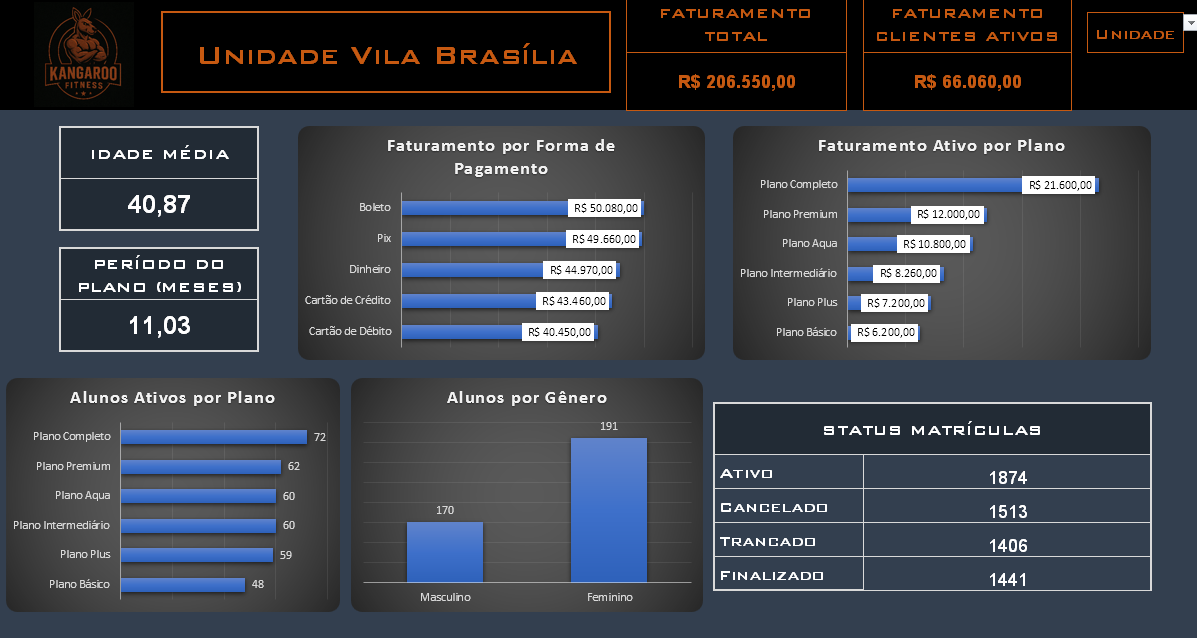

This screenshot's page, from the dashboard's own definition file:
{"tool":"powerbi","page":{"name":"Unidade","canvas":[1280,720],"ordinal":4},"visuals":[{"type":"card","title":"Faturamento Mensal Ativo","fields":{"Values":["0_Medidas.Fat_Mat_Ativas"]},"box":[567.6,28.5,201,125.6],"z":0},{"type":"clusteredColumnChart","title":"Alunos por Gênero","fields":{"Category":["dim_Clientes.Genero"],"Y":["0_Medidas.Medida"]},"box":[861.8,446.7,400,260],"z":1000},{"type":"clusteredColumnChart","title":"Faixa Etária dos Alunos","fields":{"Y":["0_Medidas.N_Alunos_Unidade"],"Category":["dim_Clientes.Faixa_Idade"]},"box":[436.2,446.5,400,260],"z":2000},{"type":"tableEx","title":"Status Matrículas","fields":{"Values":["fat_matriculas.Status","0_Medidas.N_Matriculas"]},"box":[55,465,329,223],"z":3000},{"type":"card","title":"N° de Alunos","fields":{"Values":["0_Medidas.N_Alunos_Unidade"]},"box":[989.5,28.5,158.2,125.6],"z":4000},{"type":"actionButton","box":[1160,60.7,62.5,61.2],"z":5000},{"type":"slicer","title":"Unidade","fields":{"Values":["fat_Unidade.Nome"]},"box":[20.2,26.2,536.6,130.3],"z":6000},{"type":"lineChart","title":"Faturamento Mensal","fields":{"Y":["0_Medidas.Fat_total"],"Category":["fat_pagamentos.Data_Pagamento.Variation.Hierarquia de datas.Ano","fat_pagamentos.Data_Pagamento.Variation.Hierarquia de datas.Mês"]},"box":[437.1,172.4,400,259],"z":7000},{"type":"clusteredBarChart","title":"Faturamento por Forma de Pagamento","fields":{"Y":["0_Medidas.Fat_Forma_Pag"],"Category":["fat_matriculas.Forma_Pagamento"]},"box":[861.9,172.8,400.1,260.5],"z":8000},{"type":"clusteredBarChart","title":"Faturamento por Plano","fields":{"Y":["0_Medidas.Fat_Forma_Pag"],"Category":["dim_plano.Nome"]},"box":[19.5,172.1,400.1,260.5],"z":9000},{"type":"card","title":"Faturamento Total","fields":{"Values":["0_Medidas.Fat_total"]},"box":[780.1,28.5,200.1,125.6],"z":10000}]}

Visuals, with their boxes on the page's 1280x720 design canvas (x1, y1, x2, y2). These are canvas units, not pixel positions in the 1197x638 screenshot, which may show the page scaled, cropped or inside an application window:
"Faturamento Mensal Ativo" card: locate(568, 28, 769, 154)
"Alunos por Gênero" clusteredColumnChart: locate(862, 447, 1262, 707)
"Faixa Etária dos Alunos" clusteredColumnChart: locate(436, 446, 836, 706)
"Status Matrículas" tableEx: locate(55, 465, 384, 688)
"N° de Alunos" card: locate(990, 28, 1148, 154)
actionButton: locate(1160, 61, 1222, 122)
"Unidade" slicer: locate(20, 26, 557, 156)
"Faturamento Mensal" lineChart: locate(437, 172, 837, 431)
"Faturamento por Forma de Pagamento" clusteredBarChart: locate(862, 173, 1262, 433)
"Faturamento por Plano" clusteredBarChart: locate(20, 172, 420, 433)
"Faturamento Total" card: locate(780, 28, 980, 154)
